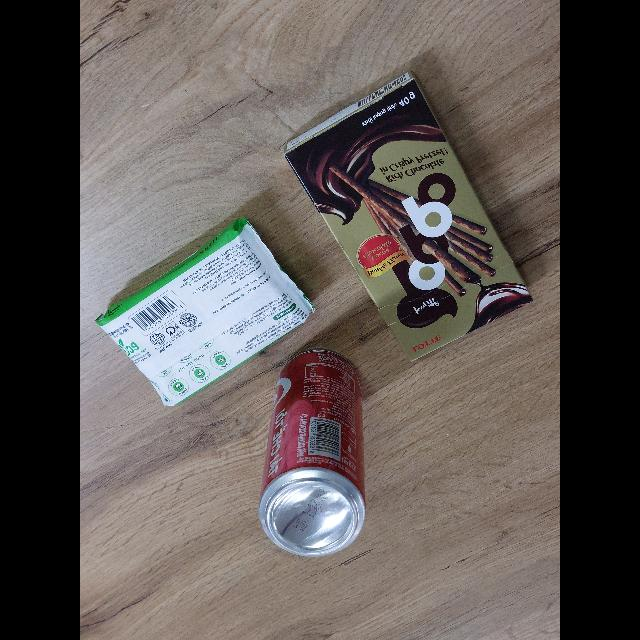banh_toppo_socola: (285, 72, 532, 360)
coca_cola: (259, 350, 366, 556)
khan_giay: (96, 217, 314, 406)
